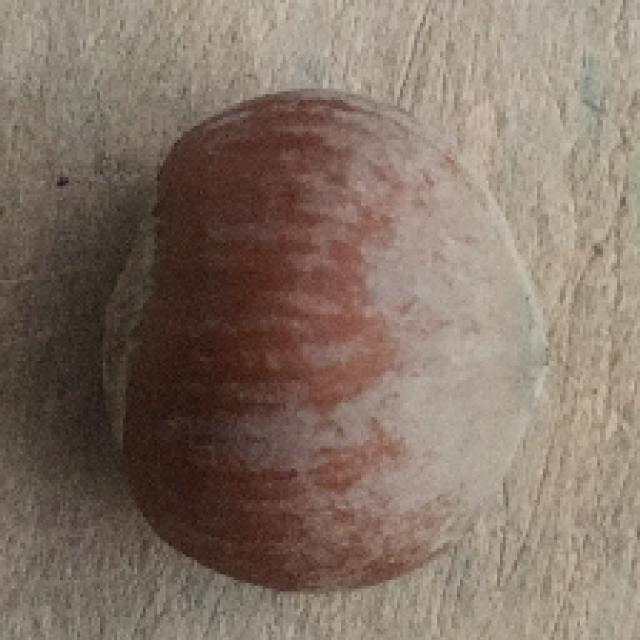qualityHazelnut: (99, 92, 551, 590)
